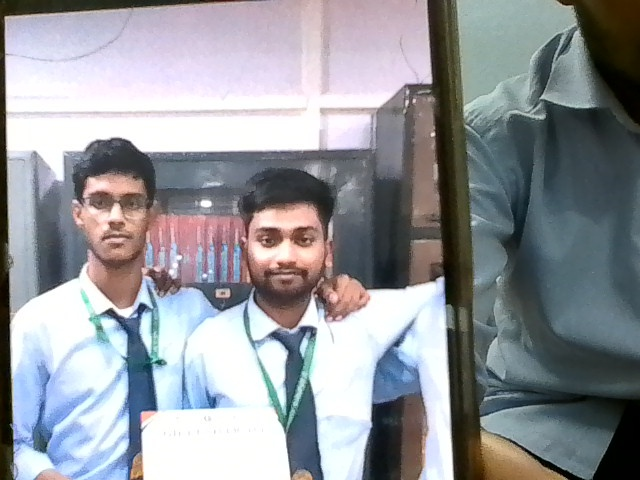real: (232, 168, 340, 321)
